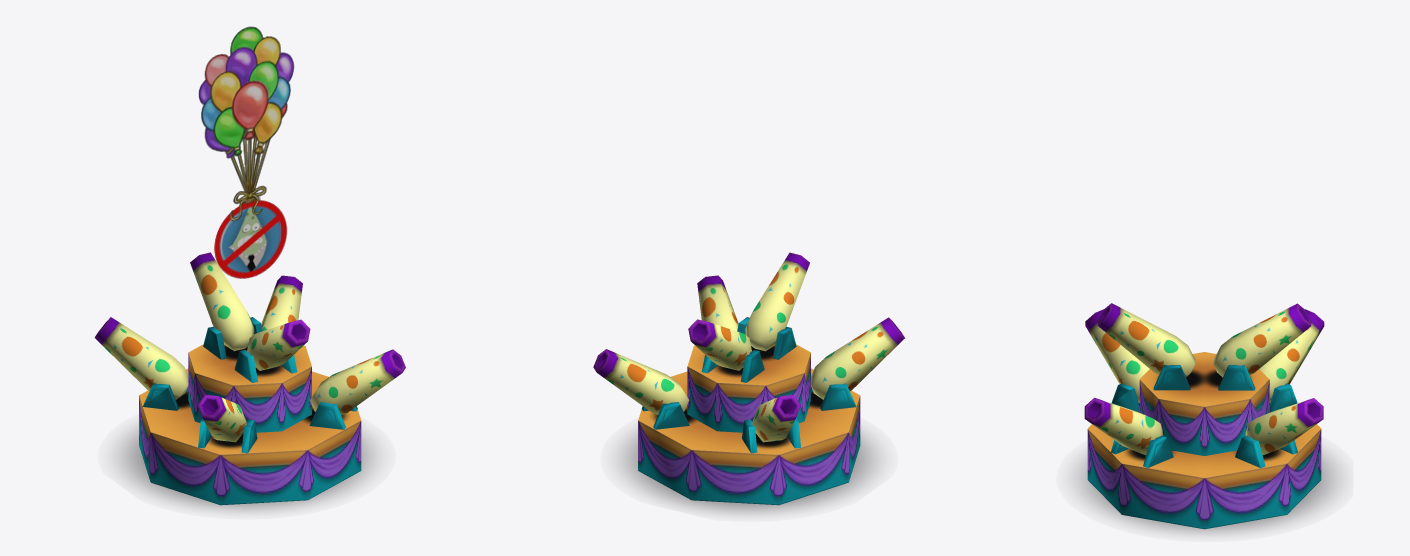
Rendered from cannon_victory.glb.
The picture shows the model from 3 angles, left to right: view 1: azimuth 30°, elevation 25°; view 2: azimuth 150°, elevation 25°; view 3: azimuth 270°, elevation 25°; orthographic projection.
Visible parts, largest first — view 1: stage, balloon__billboard, cannon3, cannon6, cannon1, dropShadow, cannon5, cannon4, cannon2; view 2: stage, cannon4, dropShadow, cannon5, cannon2, cannon6, cannon3, cannon1; view 3: stage, cannon6, cannon5, dropShadow, cannon1, cannon2, cannon3, cannon4.
Part boxes in pixels (x1,y1,x2,y2): stage: (139,344,361,505); balloon__billboard: (198,26,294,278); cannon3: (94,317,190,410); cannon6: (190,252,262,361); cannon1: (302,349,405,429); dropShadow: (118,427,374,510); cannon5: (234,319,310,382); cannon4: (197,394,257,453); cannon2: (261,275,302,330); stage: (638,344,860,505); cannon4: (809,317,904,410); dropShadow: (621,432,877,512); cannon5: (737,252,809,360); cannon2: (593,349,697,429); cannon6: (688,319,764,382); cannon3: (742,395,800,453); cannon1: (697,275,738,331); stage: (1087,352,1321,529); cannon6: (1201,303,1311,390); cannon5: (1097,303,1205,390); dropShadow: (1077,452,1338,533); cannon1: (1084,397,1174,467); cannon2: (1235,398,1323,468); cannon3: (1259,309,1324,412); cannon4: (1085,309,1149,412).
Bounding box in the file's own units: 13.77 × 18.76 × 14.86.
Materials: 5 (5 with a texture image).
